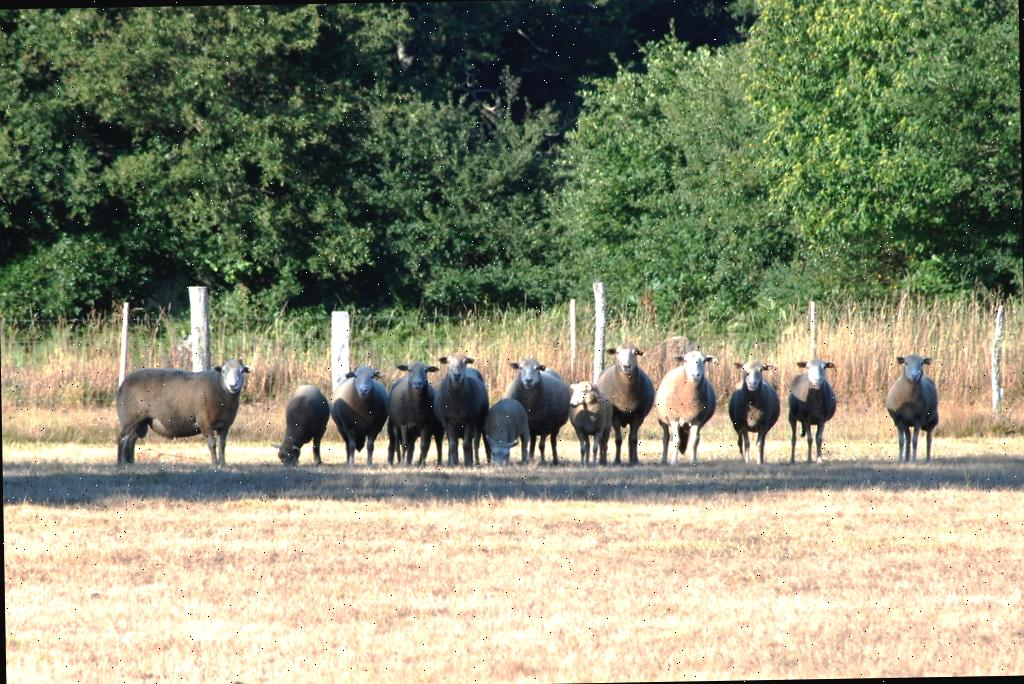Sheep: (100, 344, 252, 476), (592, 342, 660, 466), (652, 346, 719, 466), (508, 355, 574, 466), (432, 353, 488, 468), (384, 360, 444, 467), (330, 364, 392, 466), (885, 351, 943, 460), (786, 358, 840, 463), (726, 360, 780, 464), (271, 382, 331, 471), (565, 380, 612, 463), (480, 397, 530, 467)
